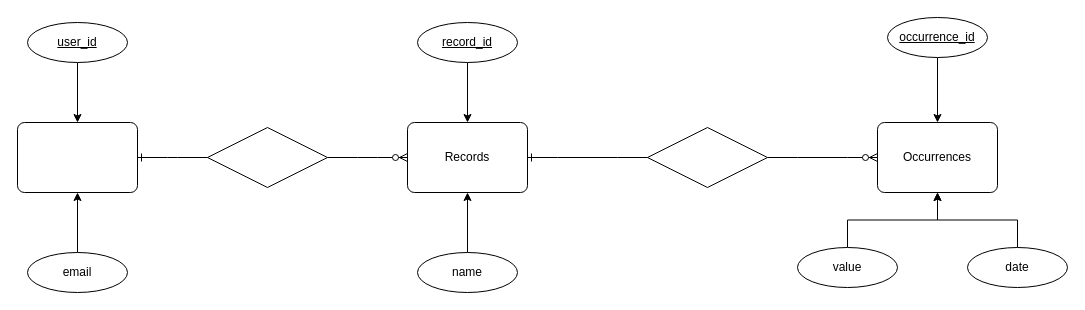
Some shapes in this 1085 by 310 pixel diagram are drawn without their labels. The shapes that lost their labels are listed below. From the top down, each one's centre as x and y in pixels, then its label:
At point (77, 157): "Users".
At point (267, 157): "기록할 내용".
At point (707, 157): "기록의 발생".
